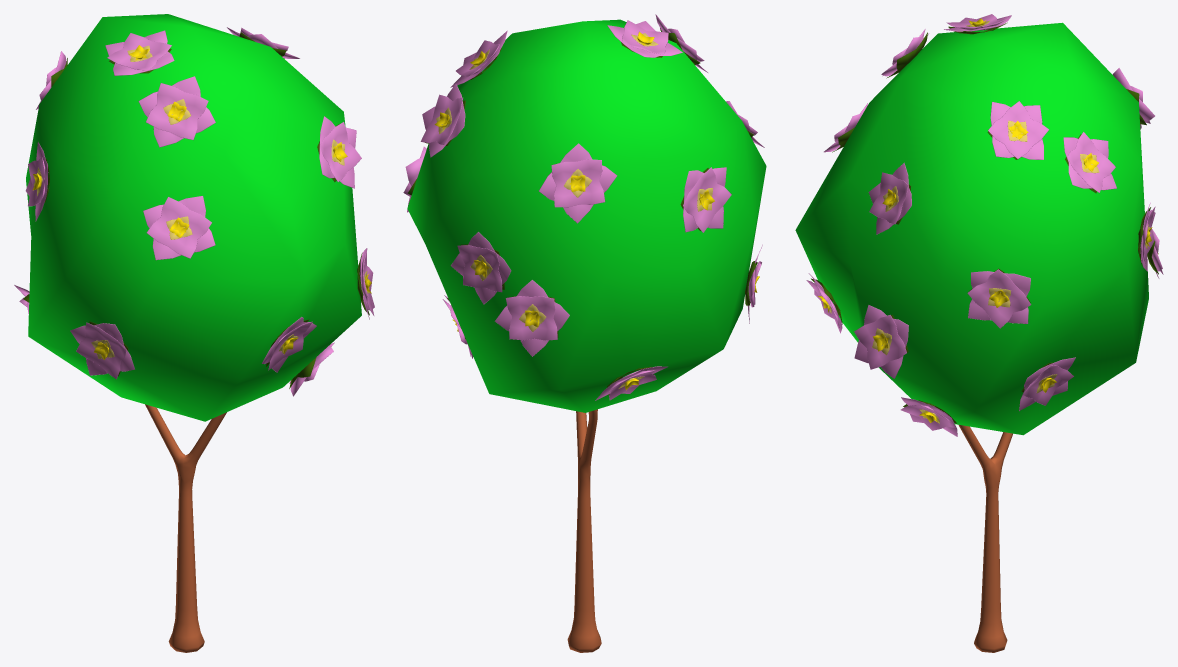
File: Camelllia Tree.fbx
3 views of the same model, side by side, from view 1: azimuth 30°, elevation 25°; view 2: azimuth 150°, elevation 25°; view 3: azimuth 270°, elevation 25° (orthographic). The views are drawn at different scales.
Visible parts, largest first — view 1: Camelia Tree; view 2: Camelia Tree; view 3: Camelia Tree.
Boxes of the visible parts, box(x1,y1,x2,y2) form: Camelia Tree: box(14, 14, 374, 652); Camelia Tree: box(403, 14, 766, 652); Camelia Tree: box(795, 14, 1163, 652).
Size of the model in its own units: 21.23 by 41.16 by 22.47.
